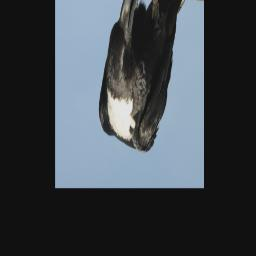Crow: (97, 0, 186, 157)
